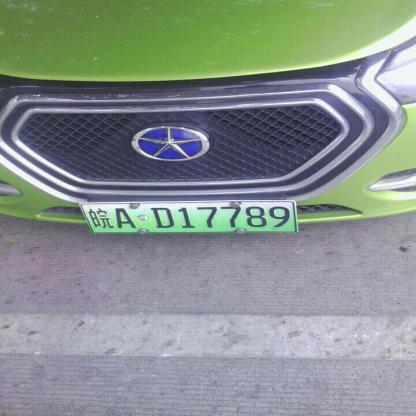lp: (78, 200, 298, 232)
